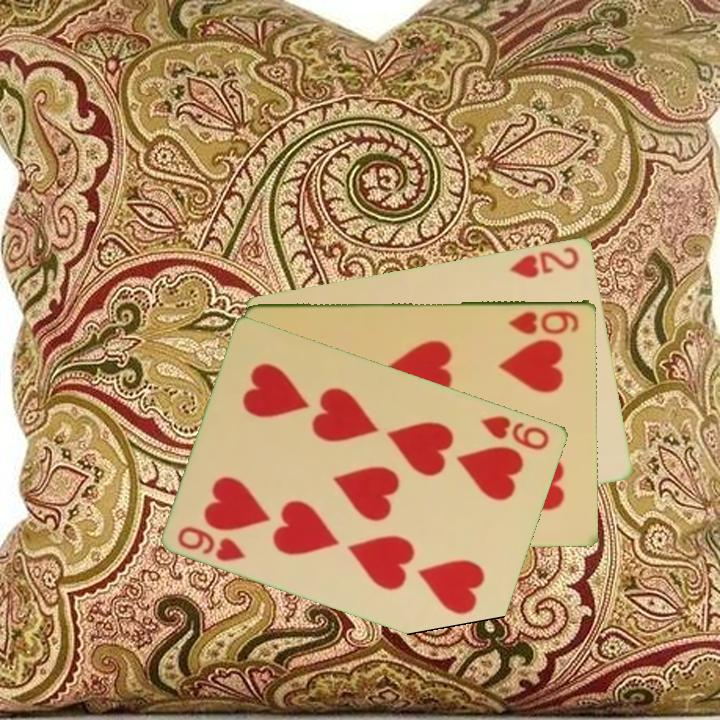2h: (505, 243, 582, 281)
6h: (506, 307, 582, 337)
9h: (478, 411, 553, 453), (174, 522, 249, 564)
